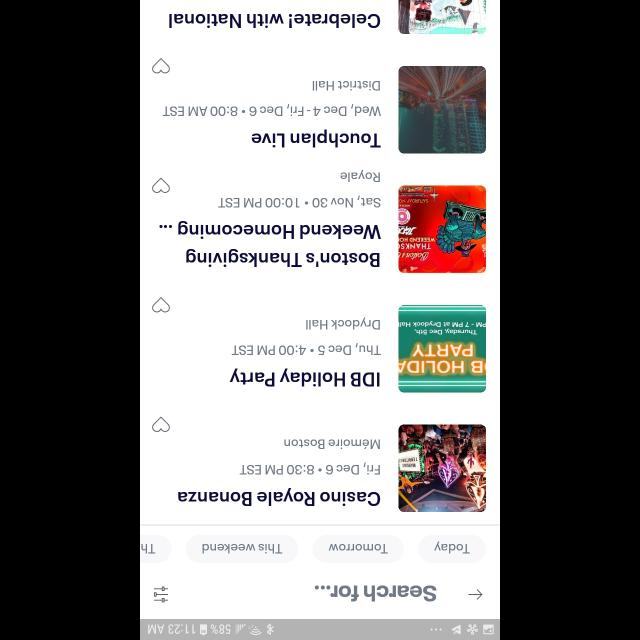icon: (152, 416, 170, 432), (152, 296, 170, 312), (152, 177, 170, 193), (152, 58, 170, 74), (154, 586, 168, 602), (468, 588, 482, 600)
image: (398, 424, 486, 512), (398, 304, 486, 392), (398, 185, 486, 273), (398, 66, 486, 154), (398, 0, 486, 34)
text: (159, 220, 381, 268), (162, 80, 382, 116), (218, 170, 380, 208), (231, 317, 381, 355), (240, 438, 380, 474), (178, 488, 380, 506), (229, 368, 379, 388), (168, 14, 380, 28), (251, 128, 381, 148), (314, 584, 436, 602)
textbutton: (185, 534, 298, 562), (312, 535, 404, 563), (418, 535, 486, 563), (140, 535, 172, 563)
uppertaskbar: (140, 618, 500, 640)
